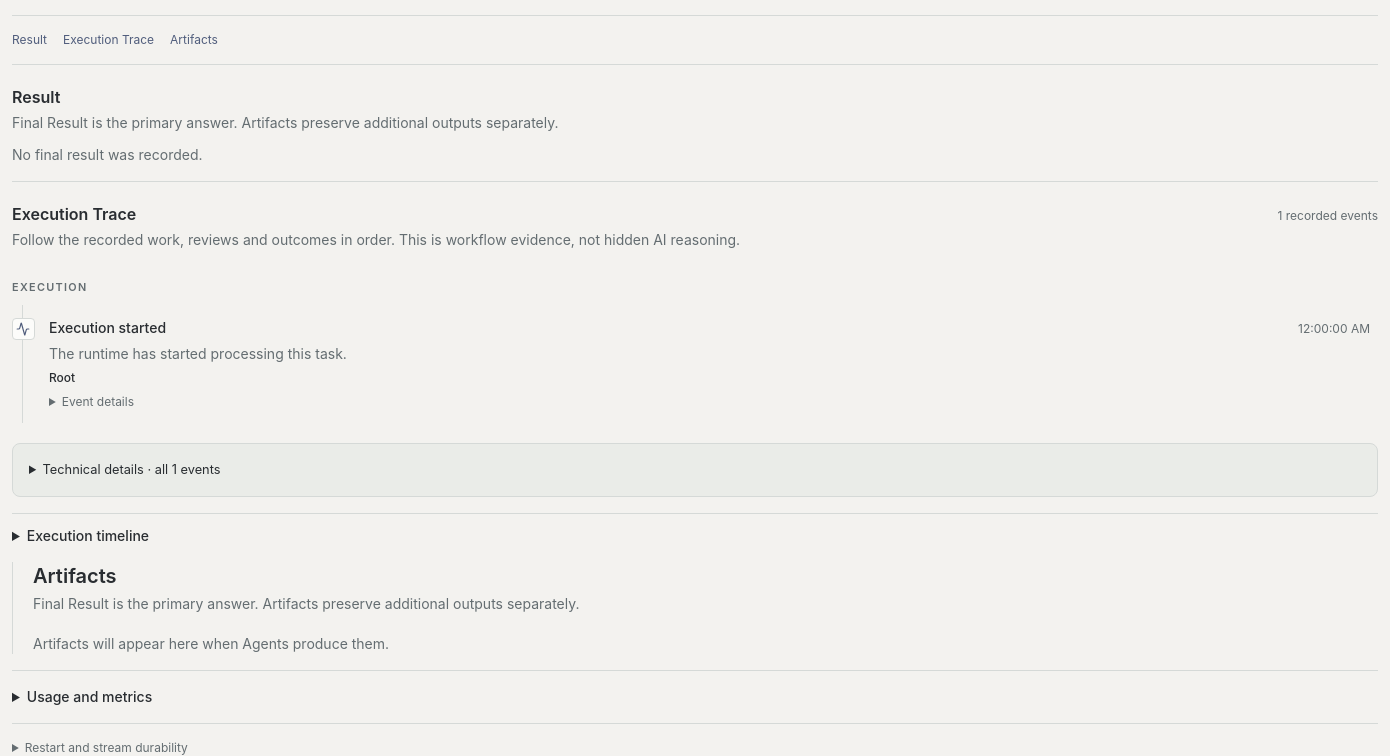
Test case: Live Run console › shows a safe provider failure category and numeric usage without raw response text
The image size is (1390, 756).
(page scrolled)
Click the heading "Usage and metrics" at coordinates (89, 696), box [27,688,152,705]
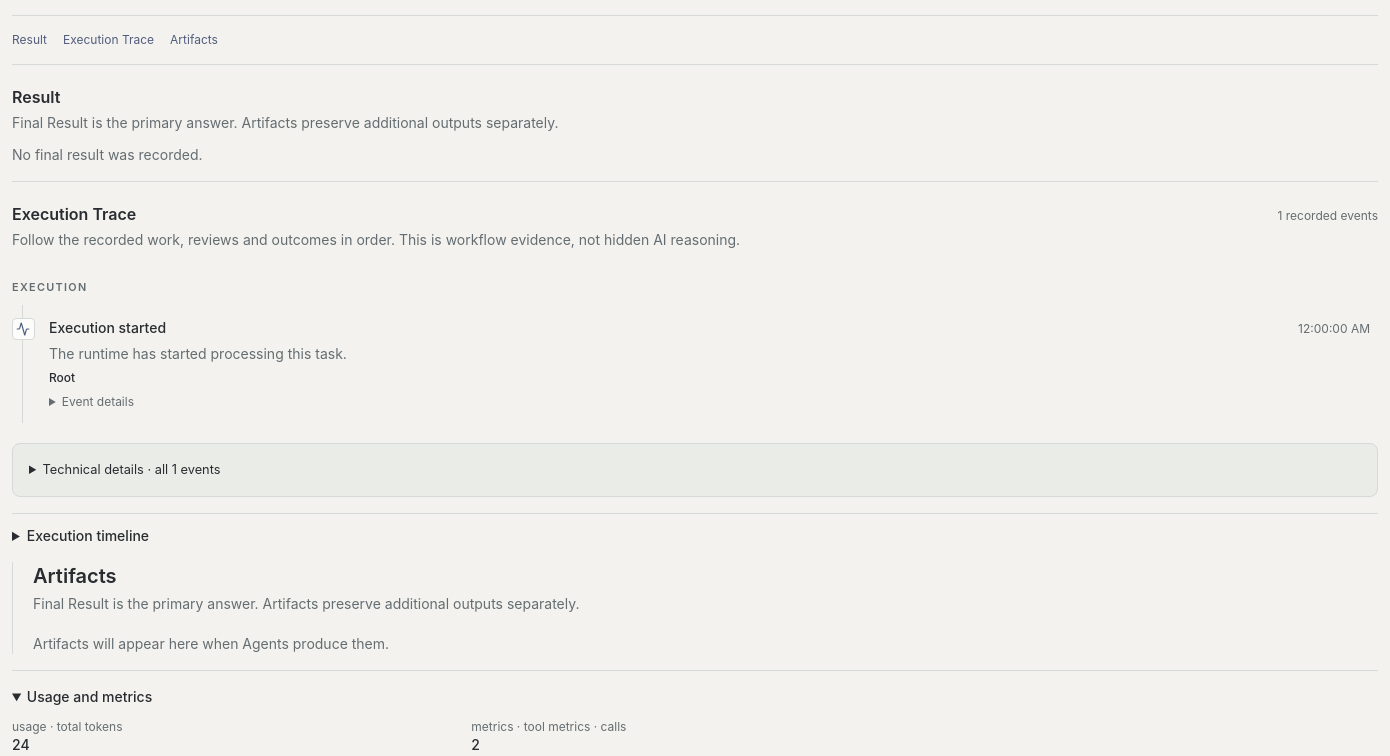
Expected: the text "24" is shown, [12,736,30,753]
